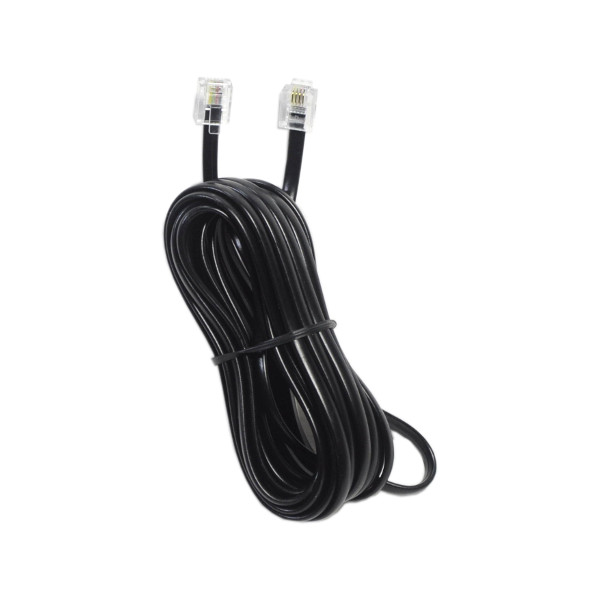Nonrec_Tangler: (149, 56, 457, 543)
